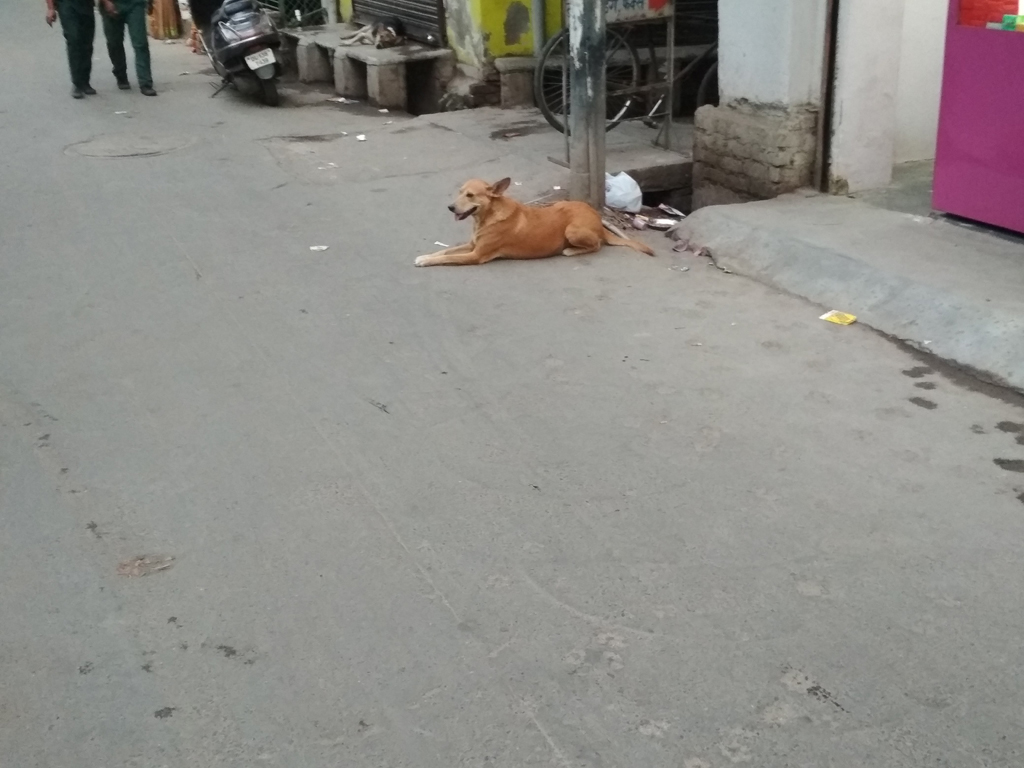dog: (413, 173, 656, 268)
